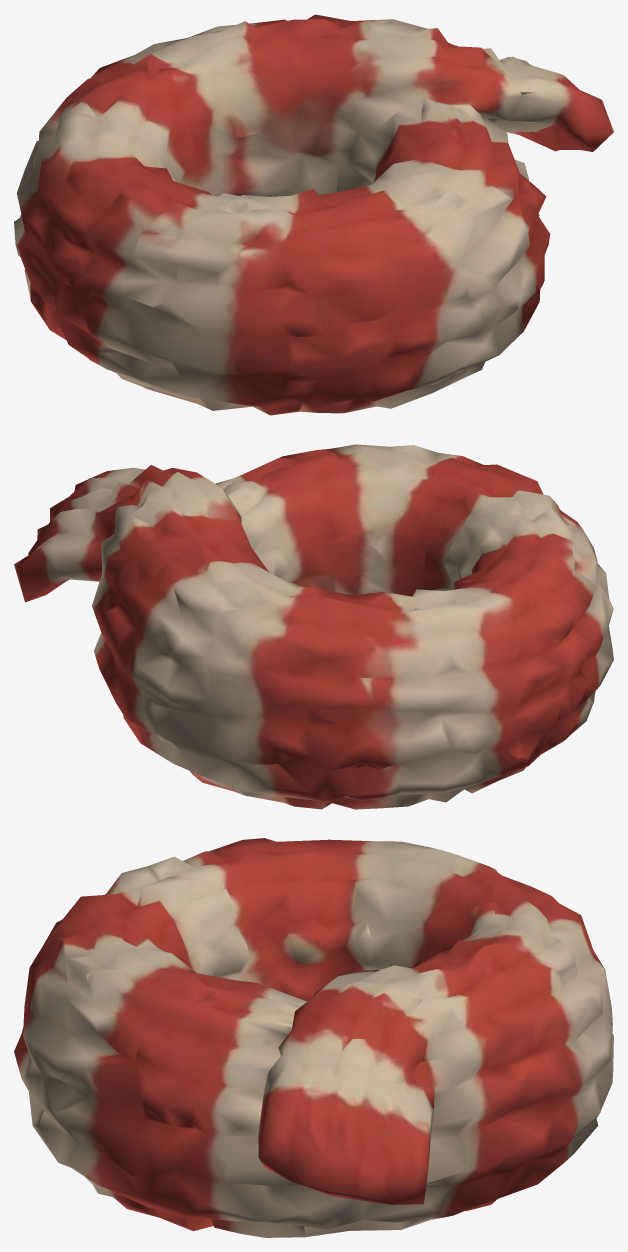
File: x-scarf.glb
The picture shows the model from 3 angles, top to bottom: view 1: azimuth 30°, elevation 25°; view 2: azimuth 150°, elevation 25°; view 3: azimuth 270°, elevation 25°; orthographic projection. The views are drawn at different scales.
Visible parts, largest first — view 1: tripo_node_69d3a8c4-d3b6-4c31-a277-7fc5de03c360; view 2: tripo_node_69d3a8c4-d3b6-4c31-a277-7fc5de03c360; view 3: tripo_node_69d3a8c4-d3b6-4c31-a277-7fc5de03c360.
Part boxes in pixels (bbox=[...]): tripo_node_69d3a8c4-d3b6-4c31-a277-7fc5de03c360: bbox=[14, 14, 613, 415]; tripo_node_69d3a8c4-d3b6-4c31-a277-7fc5de03c360: bbox=[14, 444, 613, 809]; tripo_node_69d3a8c4-d3b6-4c31-a277-7fc5de03c360: bbox=[14, 838, 613, 1237].
Bounding box in the file's own units: 1 × 0.4115 × 0.8776.
1 material, 1 textured.
